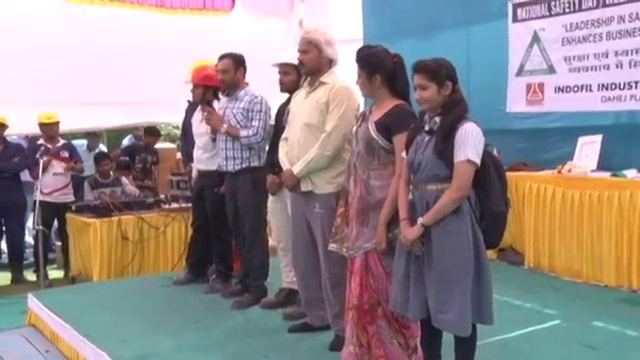helmet: (183, 62, 220, 87), (268, 42, 300, 67), (35, 112, 61, 129), (0, 115, 10, 131)
helmet_off: (348, 45, 405, 113), (408, 55, 464, 121), (291, 28, 339, 78), (209, 52, 249, 96), (90, 153, 113, 178), (140, 125, 163, 148), (84, 132, 103, 153), (129, 124, 144, 143)
helmet_on: (267, 42, 299, 95), (184, 62, 220, 109), (34, 109, 62, 145), (0, 115, 12, 145)
person: (394, 42, 510, 360), (277, 28, 358, 353), (342, 51, 416, 360), (205, 54, 273, 311), (173, 62, 235, 298), (261, 42, 309, 324), (27, 112, 83, 289), (0, 114, 28, 279), (83, 152, 149, 200), (69, 130, 115, 196), (118, 125, 163, 188)
